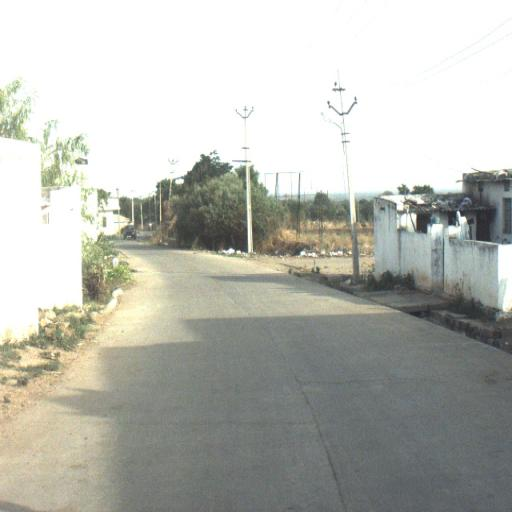street_light_0: (320, 112, 350, 154)
